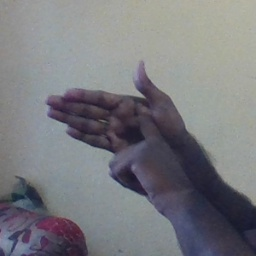R: (41, 55, 186, 198)
